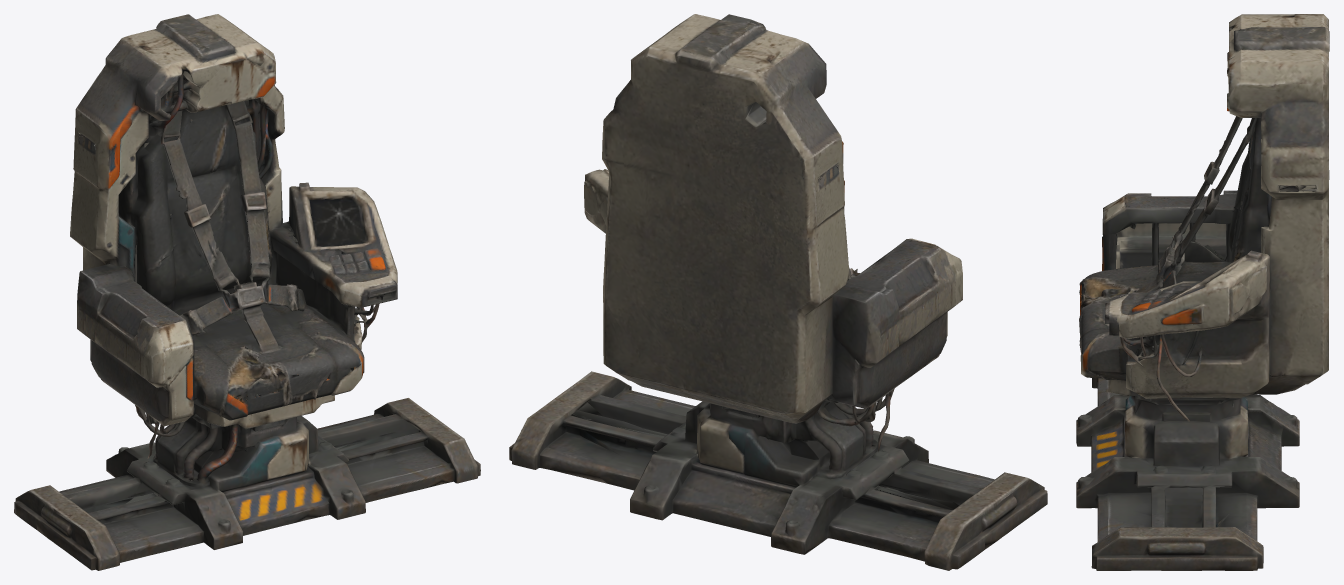
Rendered from chair_cockpit.glb.
The picture shows the model from 3 angles, left to right: view 1: azimuth 30°, elevation 25°; view 2: azimuth 150°, elevation 25°; view 3: azimuth 270°, elevation 25°; orthographic projection. The views are drawn at different scales.
Visible parts, largest first — view 1: tripo_node_35bbe30d-b30c-48e4-8329-70db7b5646ec; view 2: tripo_node_35bbe30d-b30c-48e4-8329-70db7b5646ec; view 3: tripo_node_35bbe30d-b30c-48e4-8329-70db7b5646ec.
Boxes of the visible parts, box(x1,y1,x2,y2) form: tripo_node_35bbe30d-b30c-48e4-8329-70db7b5646ec: box(14, 14, 480, 570); tripo_node_35bbe30d-b30c-48e4-8329-70db7b5646ec: box(509, 14, 1047, 570); tripo_node_35bbe30d-b30c-48e4-8329-70db7b5646ec: box(1076, 14, 1329, 570).
Size of the model in its own units: 0.9603 by 1 by 0.5234.
1 material, 1 textured.
